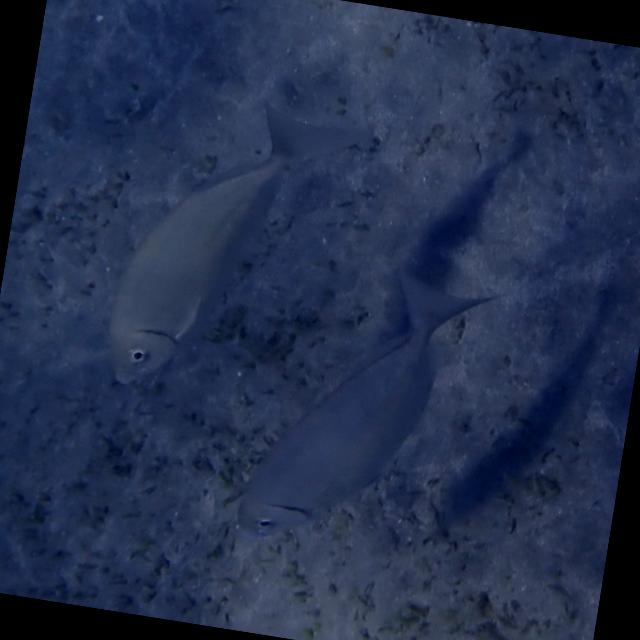Sokar Baligi: (90, 85, 388, 428), (211, 244, 501, 580)
